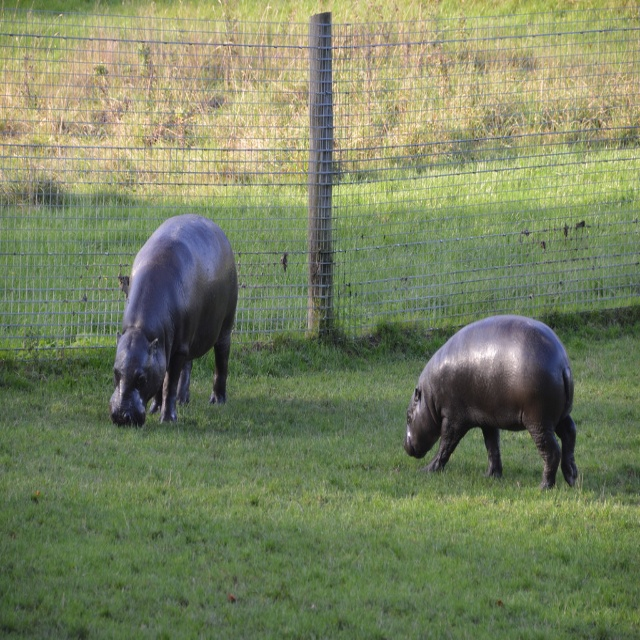Hippopotamus: (406, 316, 576, 489), (109, 213, 239, 427)
